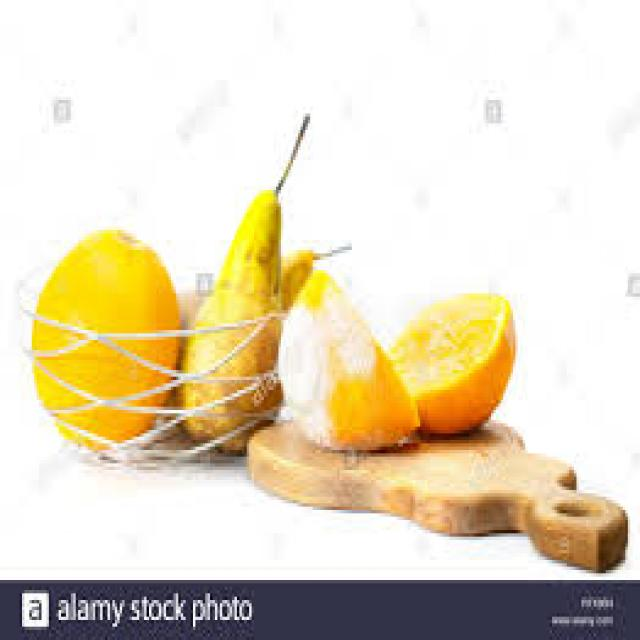organic waste: (173, 110, 308, 450), (32, 230, 176, 443), (276, 267, 420, 450), (391, 290, 513, 433), (278, 244, 349, 304)
